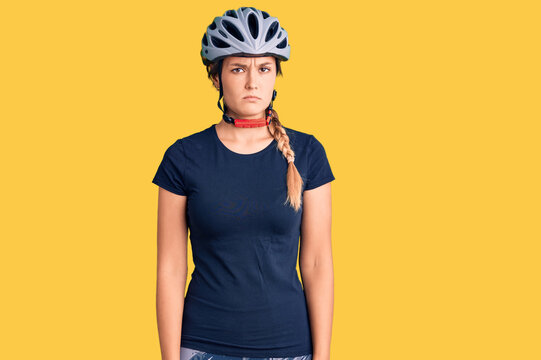helmet: (201, 8, 290, 116)
